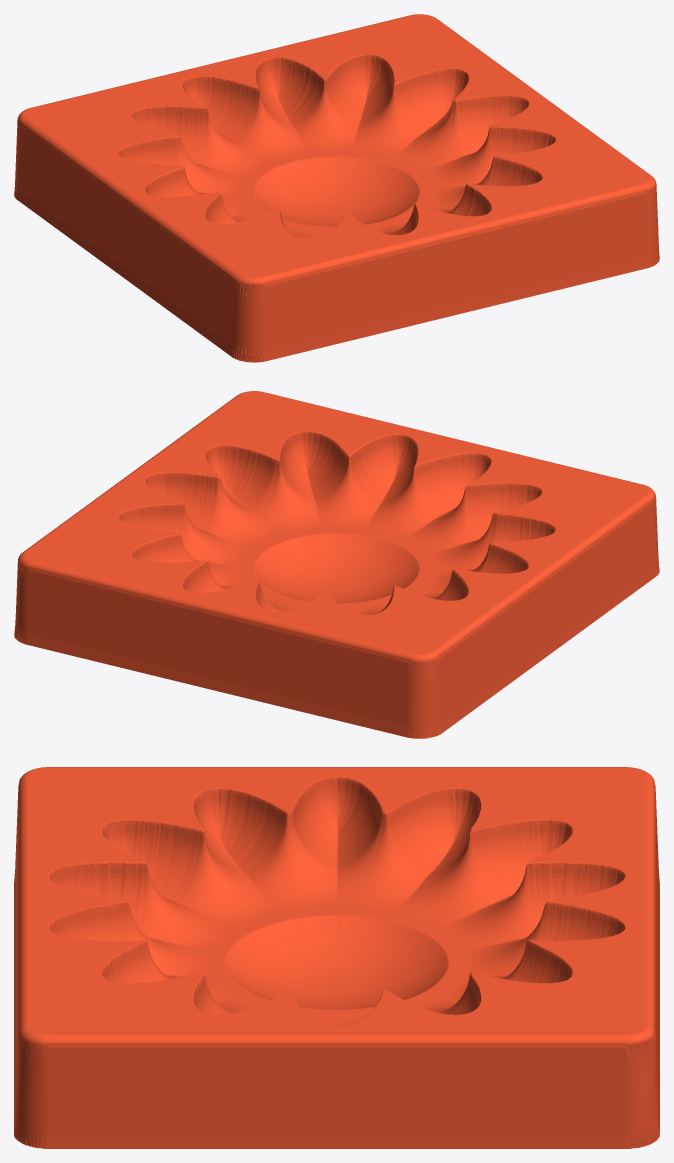
File: mold.glb
3 views of the same model, one above another, from view 1: azimuth 30°, elevation 25°; view 2: azimuth 150°, elevation 25°; view 3: azimuth 270°, elevation 25° (orthographic). The views are drawn at different scales.
Parts seen in each view (by area): view 1: geometry_0; view 2: geometry_0; view 3: geometry_0.
Boxes of the visible parts, x1,y1,x2,y2 form: geometry_0: (14,14,659,362); geometry_0: (14,391,659,738); geometry_0: (14,767,659,1148).
Bounding box in the file's own units: 0.1709 × 0.031 × 0.1675.
